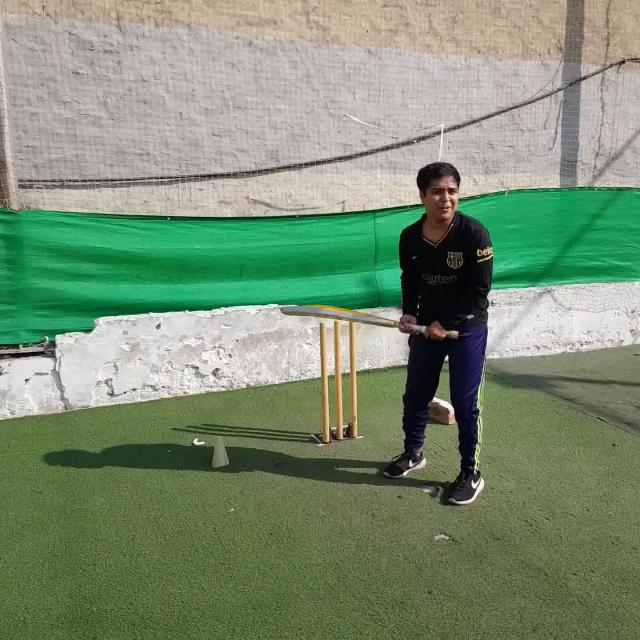bat: (281, 303, 458, 337)
